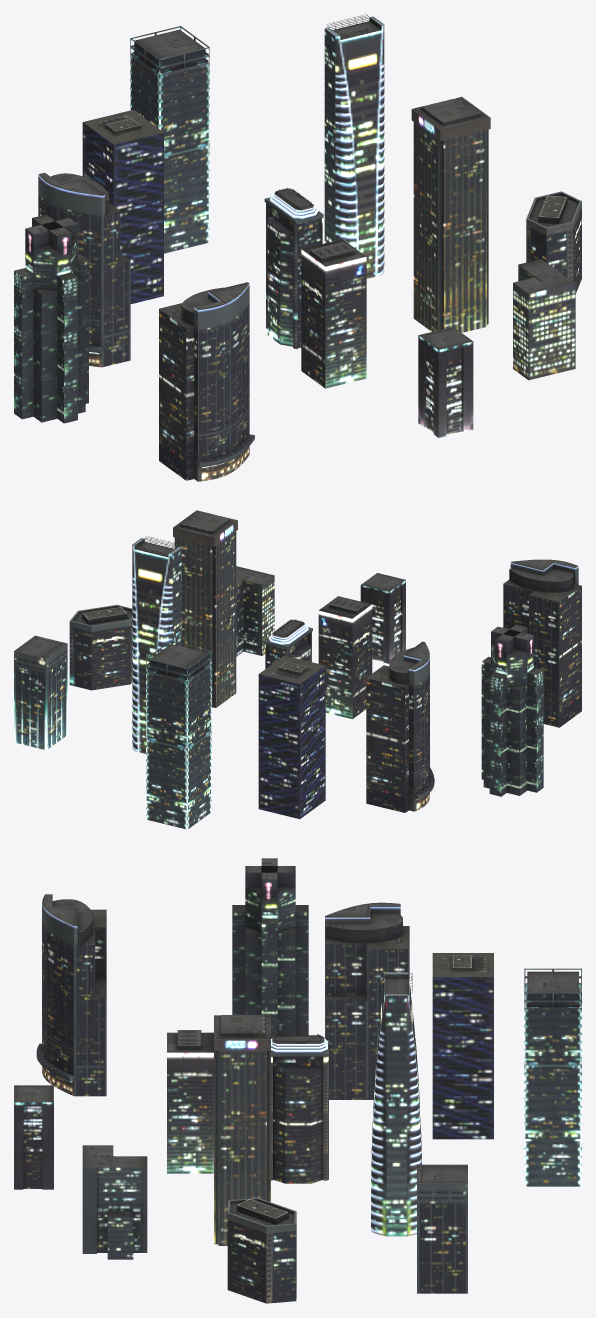
The model's file is nightcity.glb.
3 renders of one model, top to bottom at view 1: azimuth 30°, elevation 25°; view 2: azimuth 150°, elevation 25°; view 3: azimuth 270°, elevation 25°, orthographic. The views are drawn at different scales.
Parts seen in each view (by area): view 1: Cube.001; view 2: Cube.001; view 3: Cube.001.
Boxes of the visible parts, box(x1,y1,x2,y2) form: Cube.001: box(14, 14, 581, 481); Cube.001: box(14, 510, 581, 829); Cube.001: box(14, 858, 581, 1303).
Bounding box in the file's own units: 196 × 81.99 × 173.
1 material, 1 textured.
